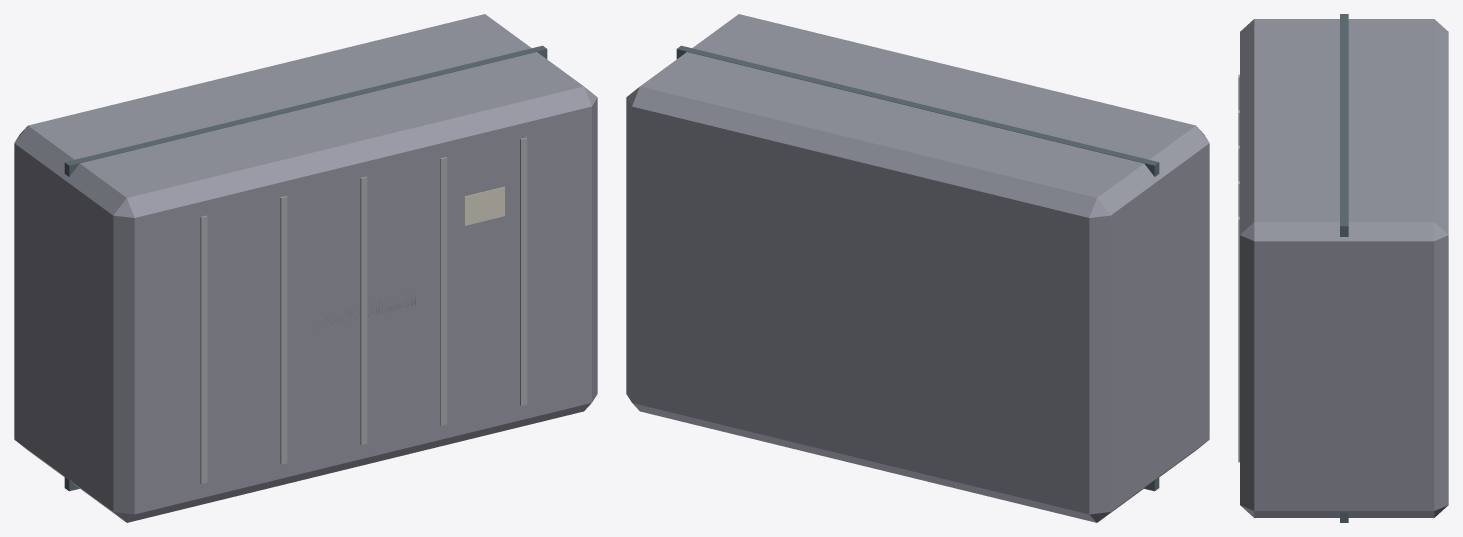
3 renders of one model, left to right at view 1: azimuth 30°, elevation 25°; view 2: azimuth 150°, elevation 25°; view 3: azimuth 270°, elevation 25°, orthographic. The views are drawn at different scales.
Parts seen in each view (by area): view 1: case, zipper_band, rib_-0.2574, rib_-0.1287, rib_0.0, rib_0.12869999999999998, rib_0.2574, id_tag; view 2: case, zipper_band; view 3: case, zipper_band, rib_0.2574.
Part boxes in pixels (x1,y1,x2,y2): case: (14,14,597,522); zipper_band: (64,45,547,491); rib_-0.2574: (200,215,207,483); rib_-0.1287: (280,196,287,464); rib_0.0: (360,176,367,444); rib_0.12869999999999998: (440,157,447,425); rib_0.2574: (520,137,527,405); id_tag: (464,186,504,225); case: (626,14,1209,522); zipper_band: (676,45,1159,491); case: (1240,19,1448,517); zipper_band: (1340,14,1348,522); rib_0.2574: (1238,216,1239,462).
Size of the model in its own units: 0.78 by 0.501 by 0.3225.
